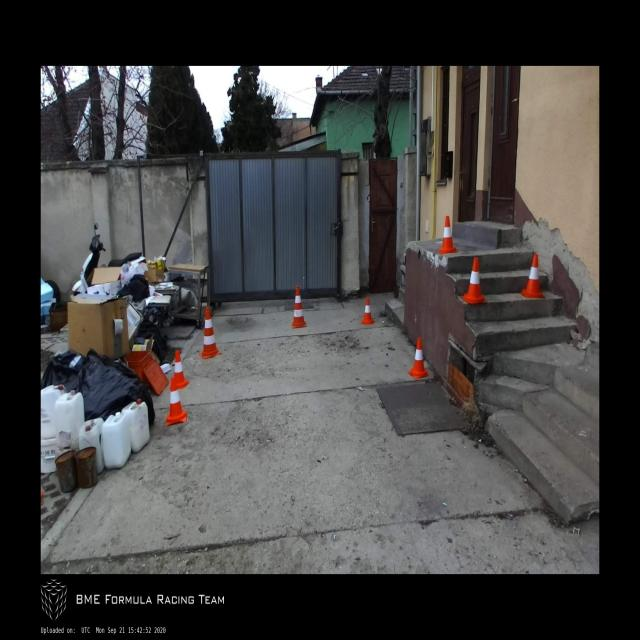large_orange_cone: (200, 306, 222, 359), (292, 285, 306, 329)
orange_cone: (520, 254, 545, 298), (462, 258, 486, 303), (166, 376, 187, 426), (168, 350, 190, 390), (408, 337, 429, 378), (438, 216, 457, 253), (360, 296, 374, 324)
